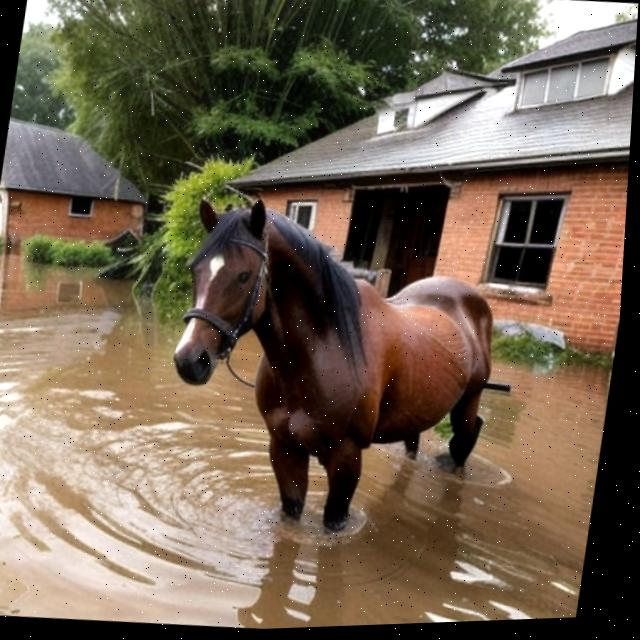horse: (117, 153, 539, 576)
